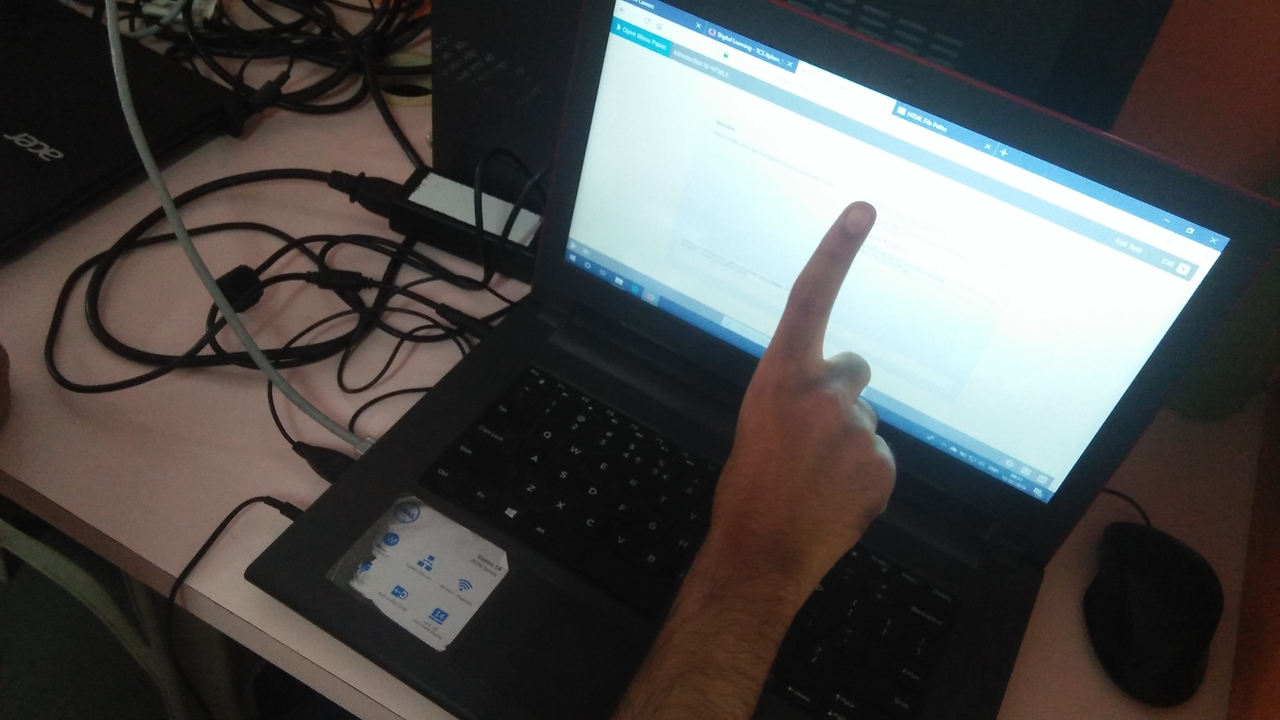fingertip: (824, 188, 888, 244)
